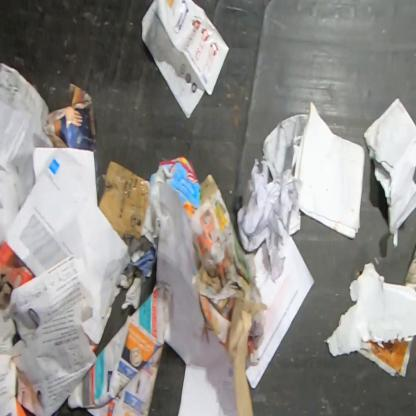cardboard: (42, 80, 100, 208), (98, 160, 150, 240)
